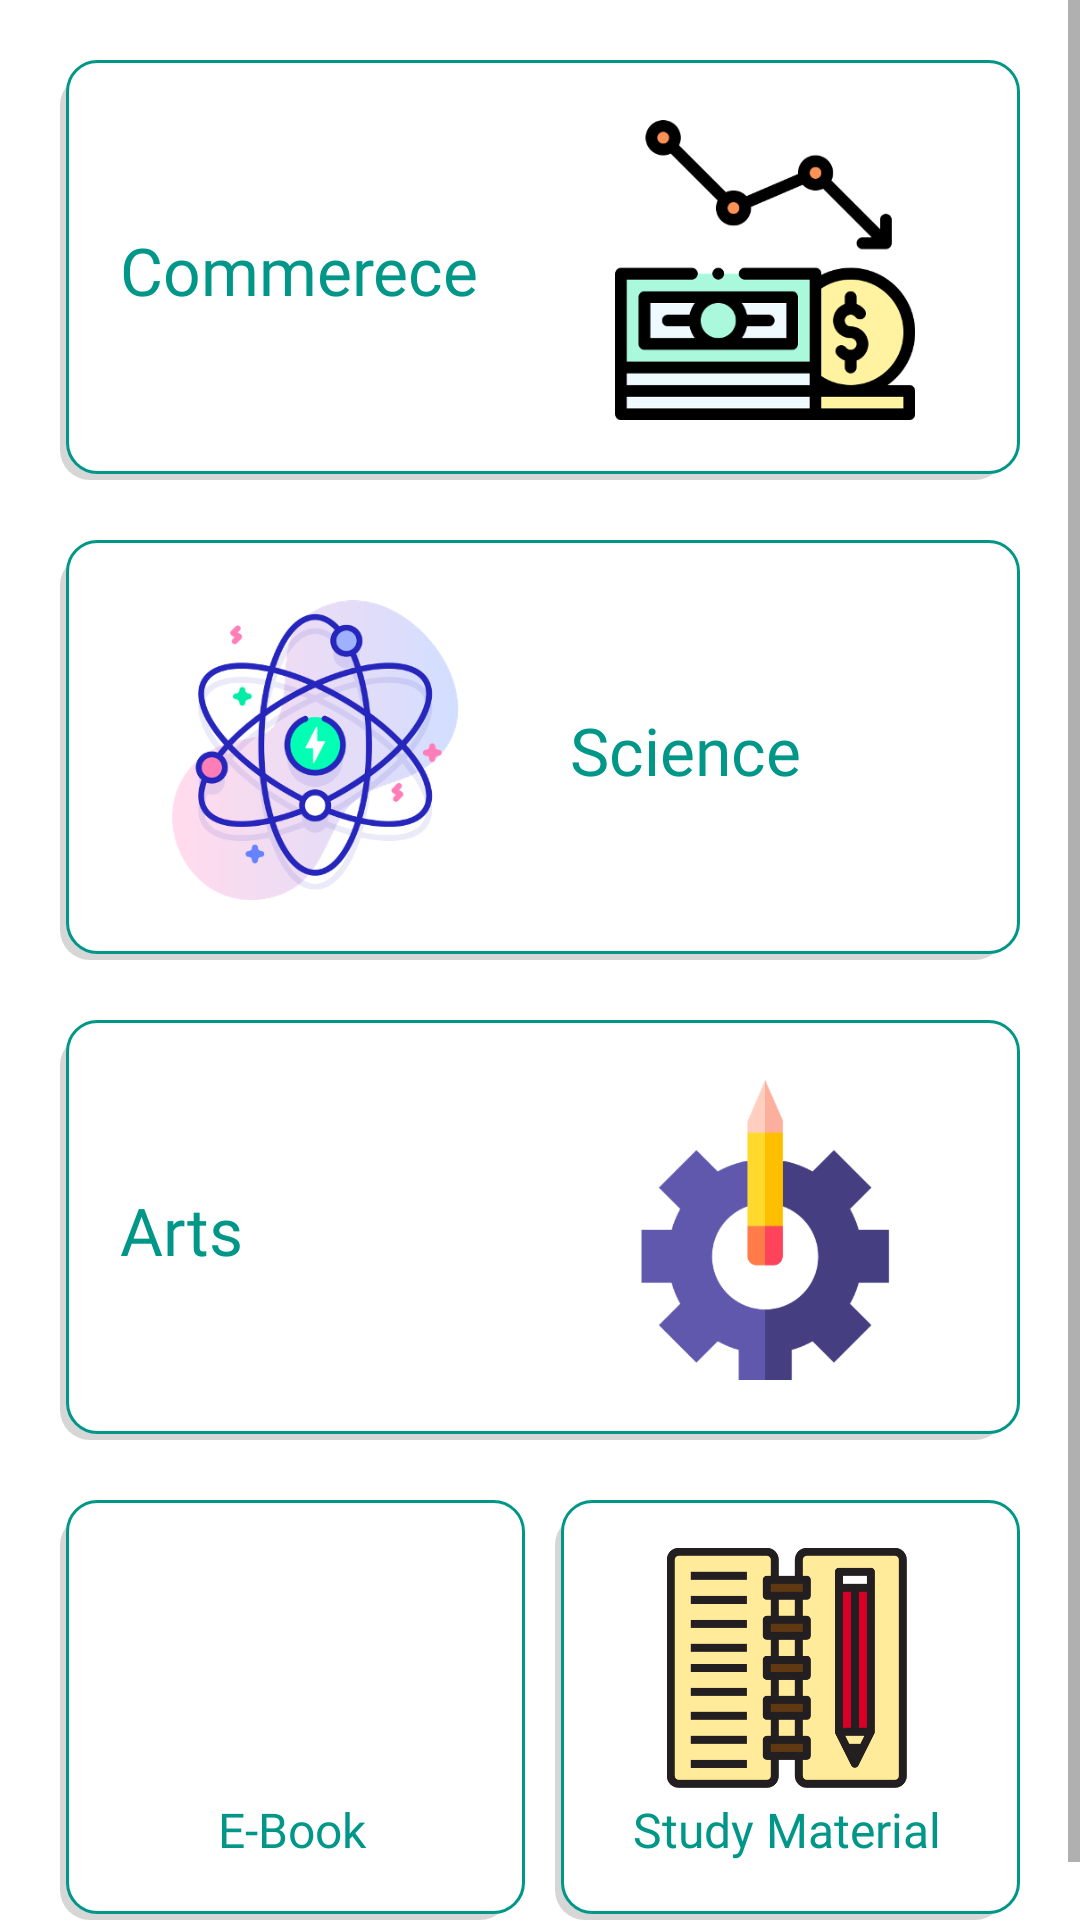

Point at icon controls on the screen. Image size 1080 × 1920, points as point (x, y).
commerce: point (765, 270)
